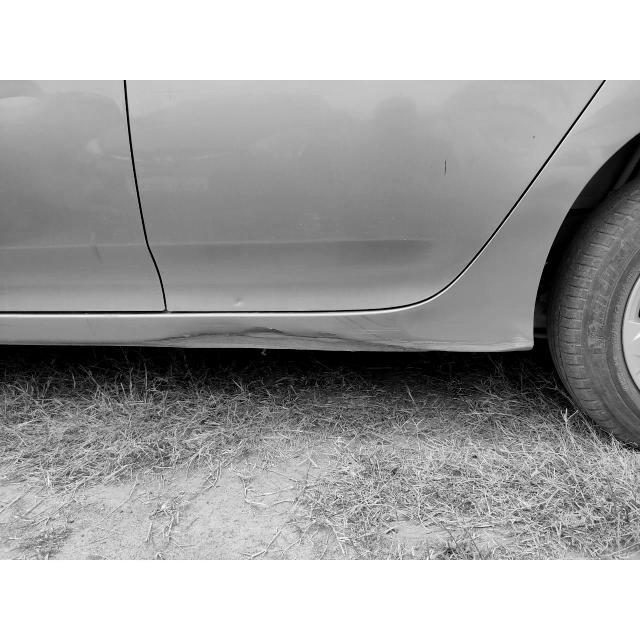Runningboard-Damage: (132, 311, 444, 357)
